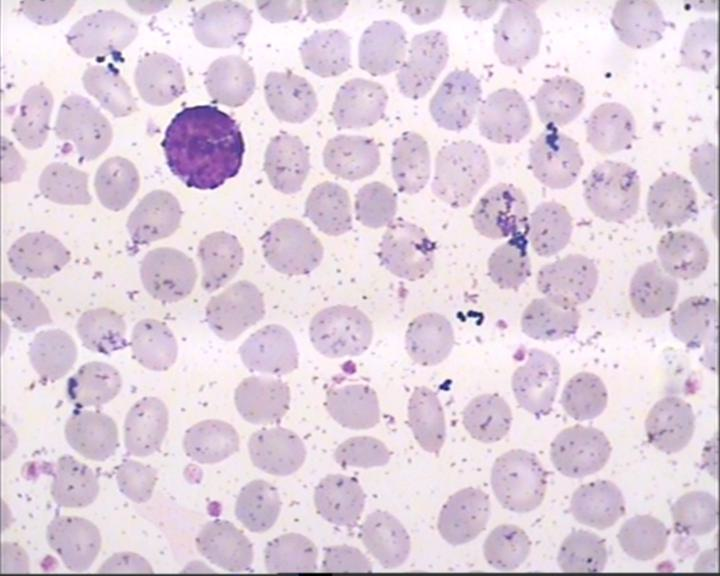baso: (155, 99, 247, 194)
